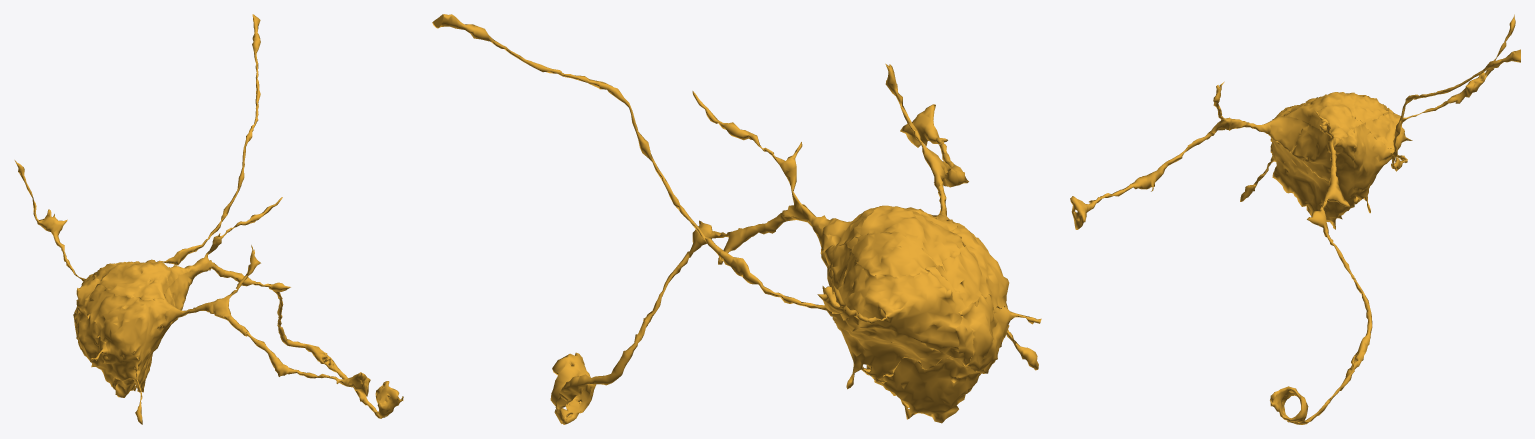
The model's file is example_oligo.glb.
The picture shows the model from 3 angles, left to right: view 1: azimuth 30°, elevation 25°; view 2: azimuth 150°, elevation 25°; view 3: azimuth 270°, elevation 25°; orthographic projection. The views are drawn at different scales.
Parts seen in each view (by area): view 1: 700174676_oligo_mesh; view 2: 700174676_oligo_mesh; view 3: 700174676_oligo_mesh.
Part boxes in pixels (<box>): 700174676_oligo_mesh: <box>14,14,403,424</box>; 700174676_oligo_mesh: <box>432,14,1041,424</box>; 700174676_oligo_mesh: <box>1070,14,1520,424</box>.
Size of the model in its own units: 0.2336 by 0.2468 by 0.2779.
